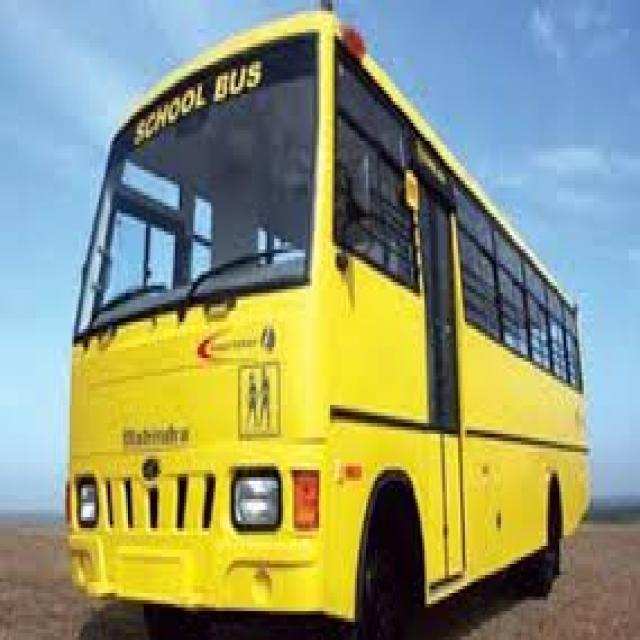bus_front: (62, 10, 596, 622)
